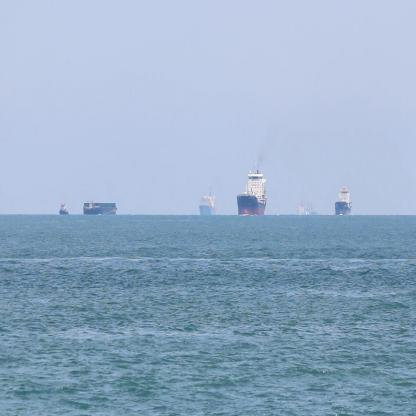Container Ship: (235, 159, 268, 218), (81, 198, 118, 218), (334, 179, 352, 220), (197, 185, 217, 220), (57, 200, 70, 218)
